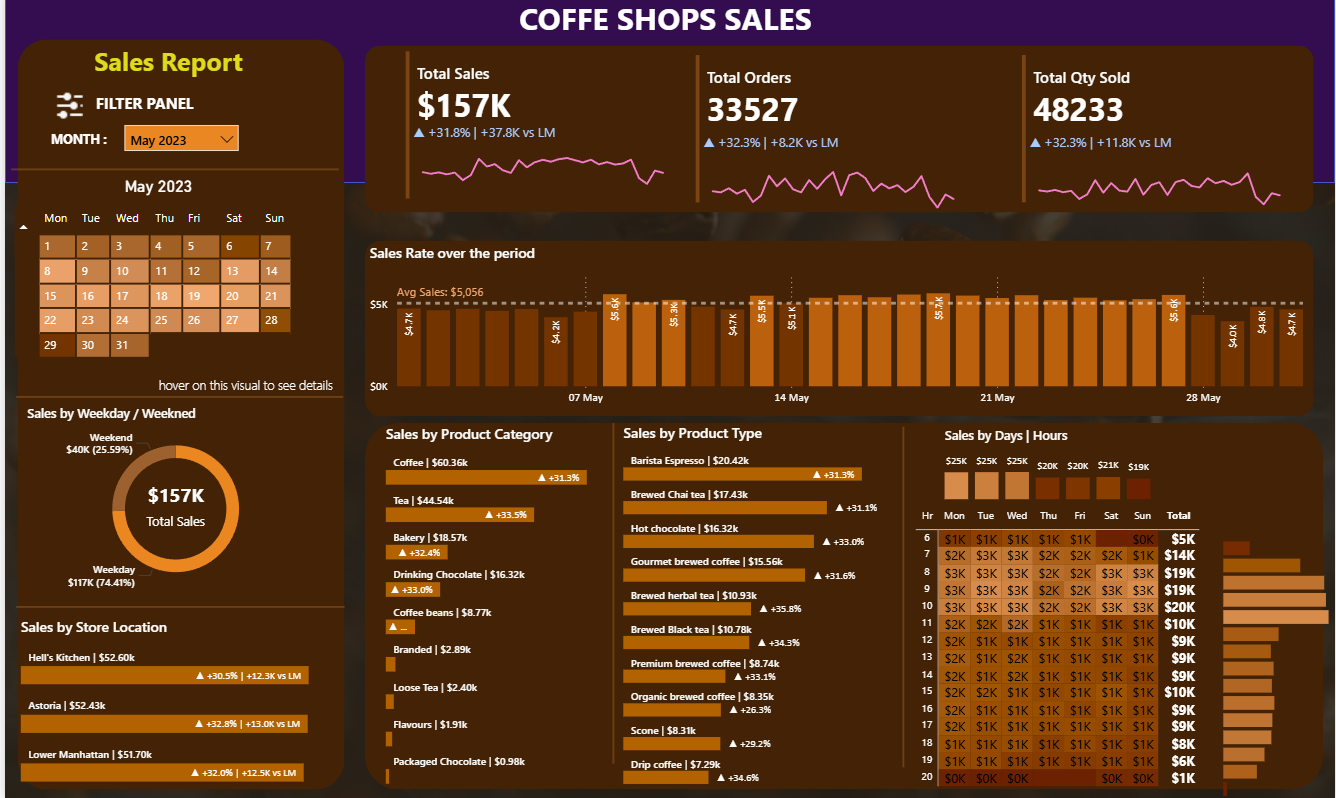

What the dashboard file says about the page in this screenshot:
{"tool":"powerbi","page":{"name":"Page 1","canvas":[1400,850],"ordinal":0},"visuals":[{"type":"shape","box":[0,0,1400.1,200],"z":0},{"type":"shape","box":[12.9,48.6,344.3,790],"z":1000},{"type":"shape","box":[378.6,55.7,998.6,175.7],"z":2000},{"type":"textbox","box":[55,0,1280,56.2],"z":3000},{"type":"cardVisual","fields":{"Data":["Coffee Shop Sales.Total Sales"]},"box":[407.1,57.1,300.5,165.2],"z":3000,"group":"g1"},{"type":"cardVisual","fields":{"Data":["Coffee Shop Sales.Total Orders"]},"box":[711.4,60,300.5,165.2],"z":3000,"group":"g2"},{"type":"cardVisual","fields":{"Data":["Coffee Shop Sales.Total QTy Sold"]},"box":[1055.7,60,300.5,165.2],"z":3000,"group":"g3"},{"type":"slicer","fields":{"Values":["Date Table.Month Year"]},"box":[120,134.3,130,38],"z":3000,"group":"g6"},{"type":"group","id":"g1","title":"Group 1","box":[407.1,57.1,301.2,165.5],"z":4000},{"type":"group","id":"g2","title":"Group 1","box":[711.4,60,301.4,172.9],"z":5000},{"type":"lineChart","fields":{"Category":["Date Table.Date.Variation.Date Hierarchy.Year","Date Table.Date.Variation.Date Hierarchy.Quarter","Date Table.Date.Variation.Date Hierarchy.Month","Date Table.Date.Variation.Date Hierarchy.Day"],"Y":["Coffee Shop Sales.Total Sales"]},"box":[425.5,136.9,282.9,85.7],"z":5000,"group":"g1"},{"type":"lineChart","fields":{"Category":["Date Table.Date.Variation.Date Hierarchy.Year","Date Table.Date.Variation.Date Hierarchy.Quarter","Date Table.Date.Variation.Date Hierarchy.Month","Date Table.Date.Variation.Date Hierarchy.Day"],"Y":["Coffee Shop Sales.Total Orders"]},"box":[729.7,146.4,283.4,85.5],"z":5000,"group":"g2"},{"type":"lineChart","fields":{"Category":["Date Table.Date.Variation.Date Hierarchy.Year","Date Table.Date.Variation.Date Hierarchy.Quarter","Date Table.Date.Variation.Date Hierarchy.Month","Date Table.Date.Variation.Date Hierarchy.Day"],"Y":["Coffee Shop Sales.Total QTy Sold"]},"box":[1074,146.4,283.4,85.5],"z":5000,"group":"g3"},{"type":"group","id":"g3","title":"Group 1","box":[1055.7,60,301.4,172.9],"z":6000},{"type":"card","fields":{"Values":["Coffee Shop Sales.hover note"]},"box":[154.3,400,202.9,25.7],"z":7000},{"type":"pivotTable","fields":{"Rows":["Date Table.Week Number"],"Columns":["Date Table.Day Name"],"Values":["Min(Date Table.Day Number)"]},"box":[5.7,219.9,334.3,195.8],"z":8000,"group":"g4"},{"type":"shape","box":[11.4,414.3,344.3,21.4],"z":8000},{"type":"shape","box":[6.2,170.8,344.6,29.2],"z":9000},{"type":"card","fields":{"Values":["Min(Date Table.Month Year)"]},"box":[106.1,187.1,112.9,34.3],"z":9000,"group":"g4"},{"type":"group","id":"g4","title":"Group 2","box":[5.7,187.1,334.3,228.6],"z":10000},{"type":"group","id":"g5","title":"Group 3","box":[18.6,432.9,322.9,202.9],"z":11000},{"type":"shape","box":[615,468.8,21.2,342.5],"z":12000},{"type":"donutChart","title":" Sales by Weekday / Weekned","fields":{"Category":["Date Table.Weekday ? Weekned"],"Y":["Coffee Shop Sales.Total Sales"]},"box":[18.6,432.9,322.9,202.9],"z":13000,"group":"g5"},{"type":"clusteredBarChart","title":"Sales by Store Location","fields":{"Category":["Coffee Shop Sales.store_location"],"Y":["Coffee Shop Sales.Place Holder","Coffee Shop Sales.Total Sales"]},"box":[11.4,657.1,338.6,181.4],"z":13000},{"type":"shape","box":[378.6,260,998.6,185],"z":14000},{"type":"card","fields":{"Values":["Coffee Shop Sales.Total Sales"]},"box":[109.2,501.2,141.4,74.2],"z":14000,"group":"g5"},{"type":"shape","box":[378.6,452.9,1008.6,385.7],"z":15000},{"type":"columnChart","title":"Sales Rate over the period","fields":{"Category":["Coffee Shop Sales.transaction_date"],"Y":["Coffee Shop Sales.Total Sales"]},"box":[378.6,262.9,998.6,180],"z":16000},{"type":"clusteredBarChart","title":"Sales by Product Category","fields":{"Y":["Coffee Shop Sales.Place Holder","Coffee Shop Sales.Total Sales"],"Category":["Coffee Shop Sales.product_category"]},"box":[395.7,454.3,250,384.3],"z":17000},{"type":"shape","box":[11.4,635.7,345.7,21.4],"z":18000},{"type":"shape","box":[633.8,452.5,12.5,358.8],"z":19000},{"type":"shape","box":[938.8,456.2,15,358.8],"z":20000},{"type":"clusteredBarChart","title":"Sales by Product Type","fields":{"Y":["Coffee Shop Sales.Place Holder","Coffee Shop Sales.Total Sales"],"Category":["Coffee Shop Sales.product_type"]},"box":[645.7,452.9,292.9,385.7],"z":21000},{"type":"pivotTable","fields":{"Rows":["Coffee Shop Sales.Hr"],"Columns":["Date Table.Day Name"],"Values":["Coffee Shop Sales.Total Sales"]},"box":[954.3,538.4,381.7,311.9],"z":22000},{"type":"barChart","fields":{"Category":["Coffee Shop Sales.Hr"],"Y":["Coffee Shop Sales.Total Sales"]},"box":[1277.1,564.3,122.9,285.7],"z":23000},{"type":"columnChart","title":"Sales by Days | Hours","fields":{"Y":["Coffee Shop Sales.Total Sales"],"Category":["Date Table.Day Name"]},"box":[983.8,456.2,227.5,82.5],"z":24000},{"type":"textbox","box":[81.4,48.6,192.9,51.4],"z":25000},{"type":"textbox","box":[91.4,100,125.7,31.4],"z":25001,"group":"g7"},{"type":"textbox","box":[42.9,140,77.1,32.9],"z":25001,"group":"g6"},{"type":"group","id":"g6","title":"Group 4","box":[42.9,134.3,207.1,38.6],"z":26000},{"type":"group","id":"g7","title":"Group 4","box":[91.4,100,125.7,31.4],"z":27000},{"type":"image","box":[44.3,97.1,47.1,42.9],"z":28000}]}

Visuals, with their boxes in screenshot pixels (x1, y1, x2, y2), scaled from the page's 1400x850 canvas onto the 1336x798 screenshot:
shape: [x1=0, y1=0, x2=1335, y2=188]
shape: [x1=12, y1=46, x2=341, y2=787]
shape: [x1=361, y1=52, x2=1314, y2=217]
textbox: [x1=52, y1=0, x2=1274, y2=53]
cardVisual - Coffee Shop Sales.Total Sales: [x1=388, y1=54, x2=675, y2=209]
cardVisual - Coffee Shop Sales.Total Orders: [x1=679, y1=56, x2=966, y2=211]
cardVisual - Coffee Shop Sales.Total QTy Sold: [x1=1007, y1=56, x2=1294, y2=211]
slicer - Date Table.Month Year: [x1=115, y1=126, x2=239, y2=162]
"Group 1" group: [x1=388, y1=54, x2=676, y2=209]
"Group 1" group: [x1=679, y1=56, x2=967, y2=219]
lineChart - Date Table.Date.Variation.Date Hierarchy.Year x Date Table.Date.Variation.Date Hierarchy.Quarter: [x1=406, y1=129, x2=676, y2=209]
lineChart - Date Table.Date.Variation.Date Hierarchy.Year x Date Table.Date.Variation.Date Hierarchy.Quarter: [x1=696, y1=137, x2=967, y2=218]
lineChart - Date Table.Date.Variation.Date Hierarchy.Year x Date Table.Date.Variation.Date Hierarchy.Quarter: [x1=1025, y1=137, x2=1295, y2=218]
"Group 1" group: [x1=1007, y1=56, x2=1295, y2=219]
card - Coffee Shop Sales.hover note: [x1=147, y1=376, x2=341, y2=400]
pivotTable - Date Table.Week Number x Date Table.Day Name: [x1=5, y1=206, x2=324, y2=390]
shape: [x1=11, y1=389, x2=339, y2=409]
shape: [x1=6, y1=160, x2=335, y2=188]
card - Min(Date Table.Month Year): [x1=101, y1=176, x2=209, y2=208]
"Group 2" group: [x1=5, y1=176, x2=324, y2=390]
"Group 3" group: [x1=18, y1=406, x2=326, y2=597]
shape: [x1=587, y1=440, x2=607, y2=762]
" Sales by Weekday / Weekned" donutChart: [x1=18, y1=406, x2=326, y2=597]
"Sales by Store Location" clusteredBarChart: [x1=11, y1=617, x2=334, y2=787]
shape: [x1=361, y1=244, x2=1314, y2=418]
card - Coffee Shop Sales.Total Sales: [x1=104, y1=471, x2=239, y2=540]
shape: [x1=361, y1=425, x2=1324, y2=787]
"Sales Rate over the period" columnChart: [x1=361, y1=247, x2=1314, y2=416]
"Sales by Product Category" clusteredBarChart: [x1=378, y1=427, x2=616, y2=787]
shape: [x1=11, y1=597, x2=341, y2=617]
shape: [x1=605, y1=425, x2=617, y2=762]
shape: [x1=896, y1=428, x2=910, y2=765]
"Sales by Product Type" clusteredBarChart: [x1=616, y1=425, x2=896, y2=787]
pivotTable - Coffee Shop Sales.Hr x Date Table.Day Name: [x1=911, y1=505, x2=1275, y2=797]
barChart - Coffee Shop Sales.Hr x Coffee Shop Sales.Total Sales: [x1=1219, y1=530, x2=1335, y2=797]
"Sales by Days | Hours" columnChart: [x1=939, y1=428, x2=1156, y2=506]
textbox: [x1=78, y1=46, x2=262, y2=94]
textbox: [x1=87, y1=94, x2=207, y2=123]
textbox: [x1=41, y1=131, x2=115, y2=162]
"Group 4" group: [x1=41, y1=126, x2=239, y2=162]
"Group 4" group: [x1=87, y1=94, x2=207, y2=123]
image: [x1=42, y1=91, x2=87, y2=131]
